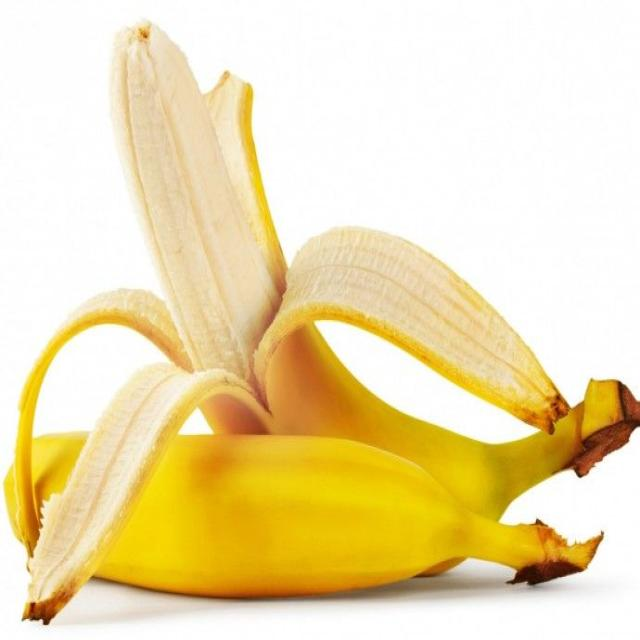banana: (15, 24, 638, 618), (83, 435, 601, 596), (26, 364, 268, 621)
